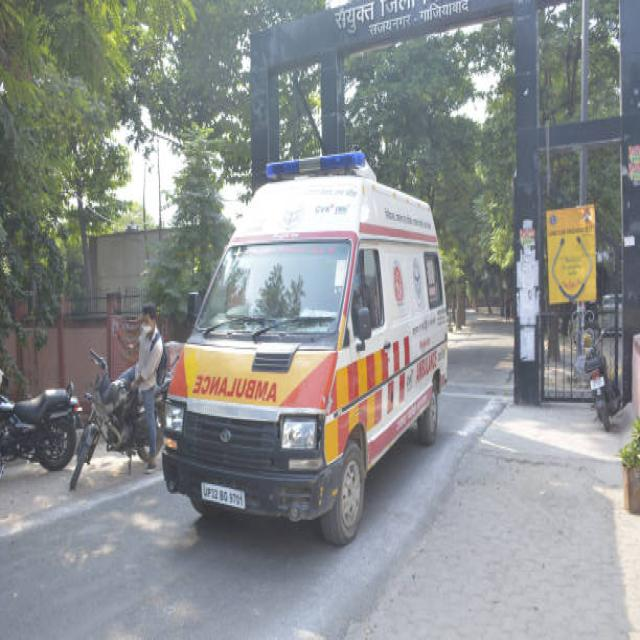ambulance: (166, 149, 450, 538)
